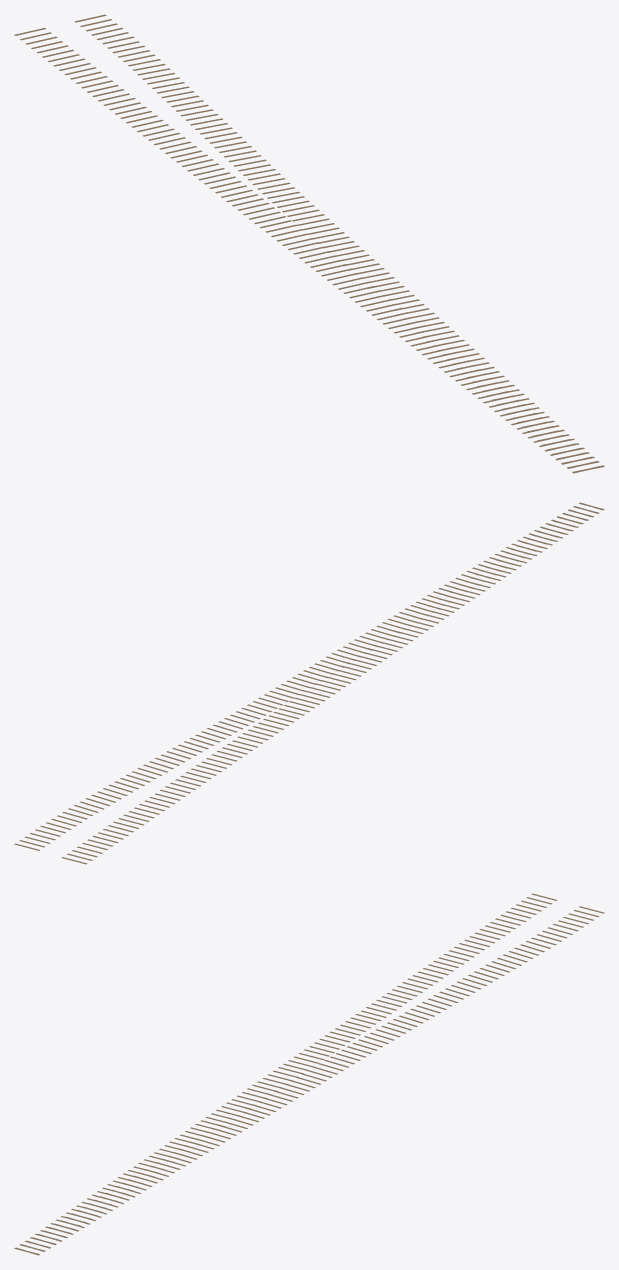
The model's file is c_1629_17844_rail_sleeper.glb.
3 renders of one model, top to bottom at view 1: azimuth 30°, elevation 25°; view 2: azimuth 150°, elevation 25°; view 3: azimuth 330°, elevation 25°, orthographic. The views are drawn at different scales.
Visible parts, largest first — view 1: geometry_0; view 2: geometry_0; view 3: geometry_0.
Part boxes in pixels (x1,y1,x2,y2): geometry_0: (14, 14, 604, 473); geometry_0: (14, 502, 604, 864); geometry_0: (14, 893, 604, 1255).
Size of the model in its own units: 9.32 by 0.0725 by 80.3.
